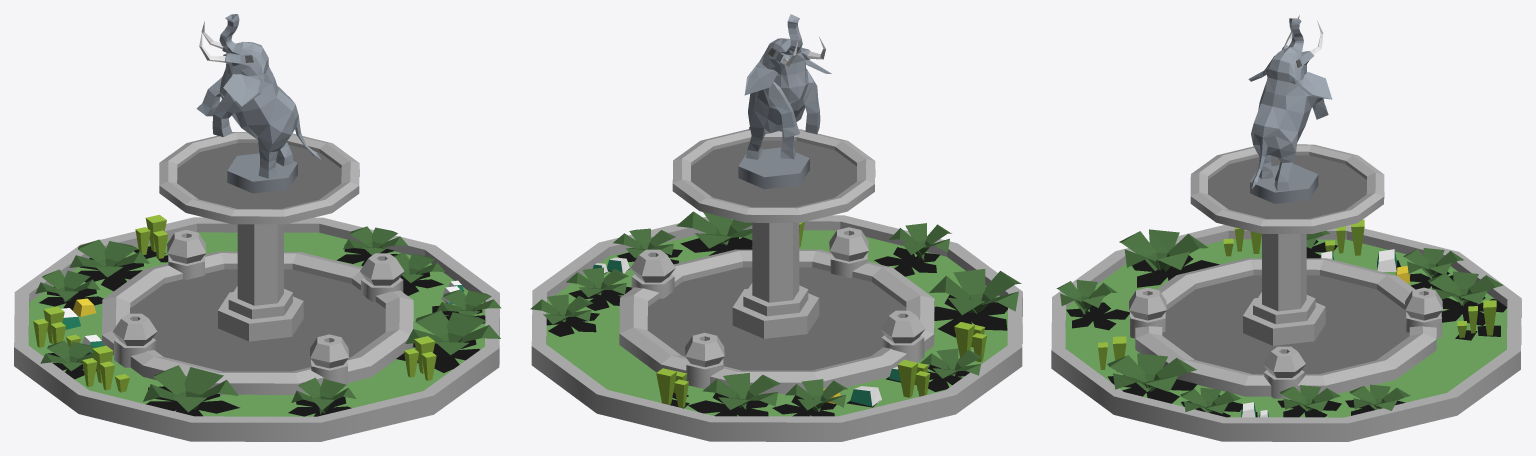
Rendered from penquan.FBX.
3 renders of one model, left to right at view 1: azimuth 30°, elevation 25°; view 2: azimuth 150°, elevation 25°; view 3: azimuth 270°, elevation 25°, orthographic. The views are drawn at different scales.
Parts seen in each view (by area): view 1: penquan; view 2: penquan; view 3: penquan.
Part boxes in pixels (x1,y1,x2,y2): penquan: (14,14,501,441); penquan: (530,14,1022,441); penquan: (1051,15,1521,441).
Bounding box in the file's own units: 1815 × 1347 × 1815.
